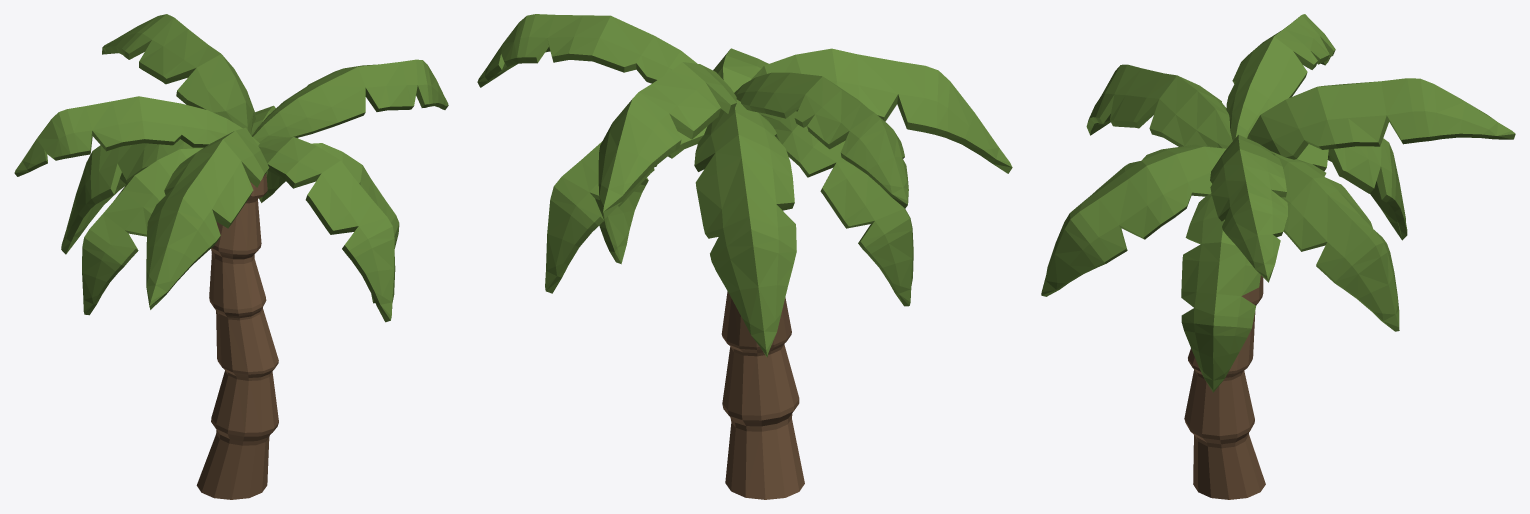
Rendered from PalmHero.obj.
3 renders of one model, left to right at view 1: azimuth 30°, elevation 25°; view 2: azimuth 150°, elevation 25°; view 3: azimuth 270°, elevation 25°, orthographic. The views are drawn at different scales.
Parts seen in each view (by area): view 1: Environment_PalmTree_3; view 2: Environment_PalmTree_3; view 3: Environment_PalmTree_3.
Boxes of the visible parts, left/top/right/bottom form: Environment_PalmTree_3: left=14, top=14, right=448, bottom=499; Environment_PalmTree_3: left=477, top=14, right=1012, bottom=499; Environment_PalmTree_3: left=1041, top=14, right=1515, bottom=499.
Bounding box in the file's own units: 2.86 × 2.69 × 2.75.
Materials: 1 (1 with a texture image).
